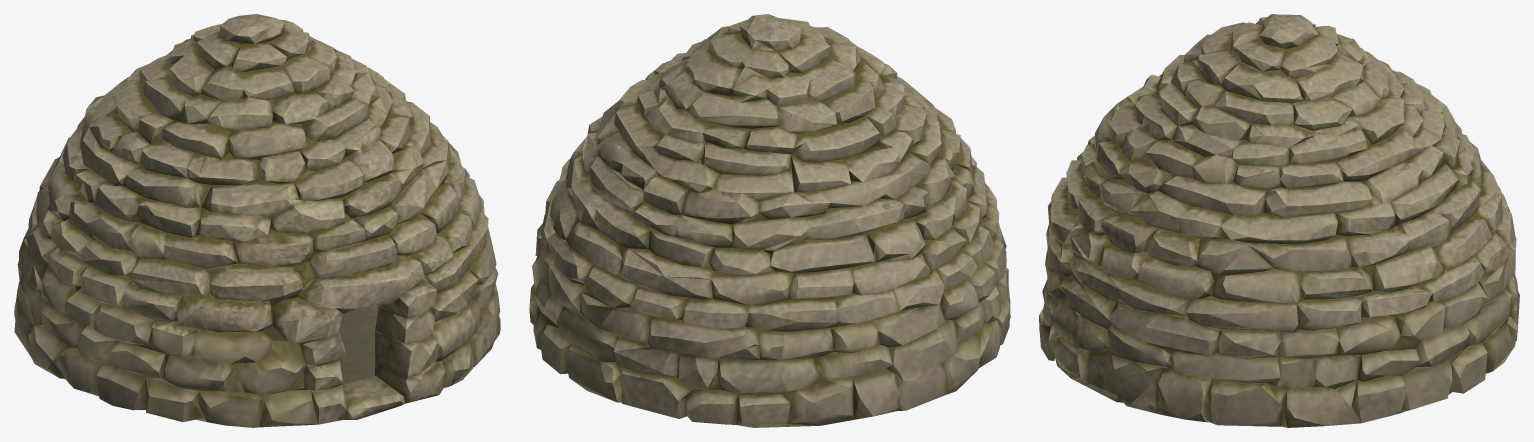
File: poi_cairn.glb
The picture shows the model from 3 angles, left to right: view 1: azimuth 30°, elevation 25°; view 2: azimuth 150°, elevation 25°; view 3: azimuth 270°, elevation 25°; orthographic projection.
Visible parts, largest first — view 1: poi_cairn; view 2: poi_cairn; view 3: poi_cairn.
Part boxes in pixels (x1,y1,x2,y2): poi_cairn: [14, 14, 500, 427]; poi_cairn: [529, 14, 1010, 427]; poi_cairn: [1039, 14, 1519, 427].
Bounding box in the file's own units: 4.29 × 3 × 4.26.
1 material, 1 textured.
